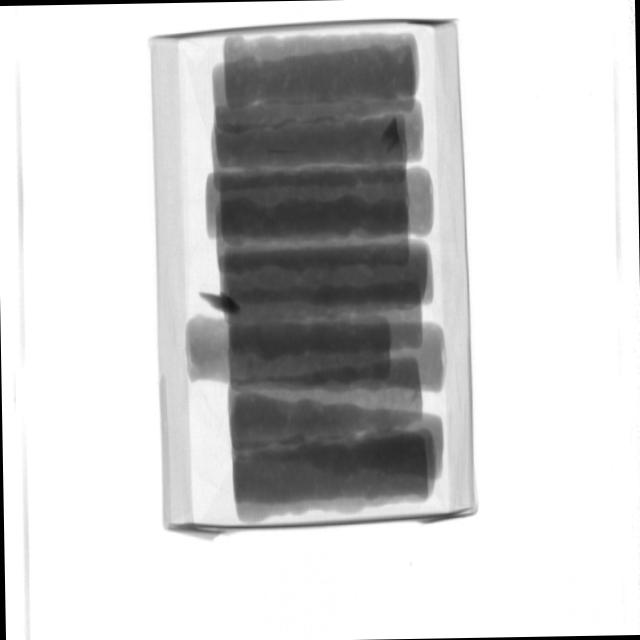ym: (198, 289, 242, 317), (382, 119, 403, 153)
